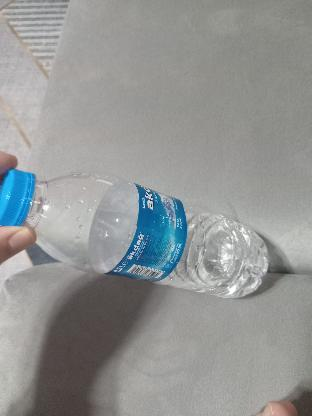Plastic Bottle: (4, 170, 270, 302)
